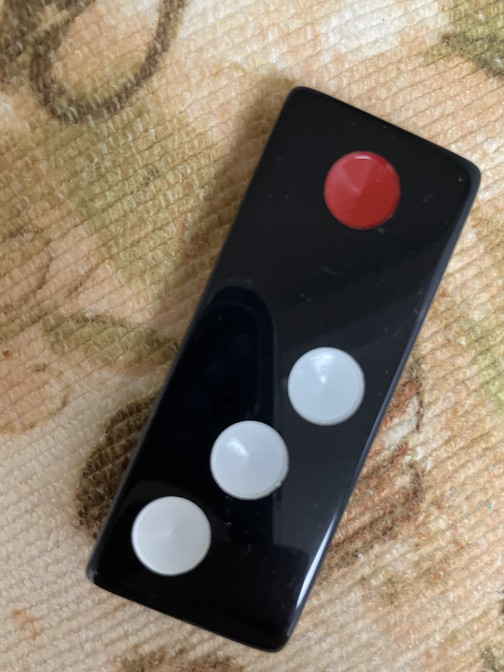goose: (88, 86, 482, 652)
